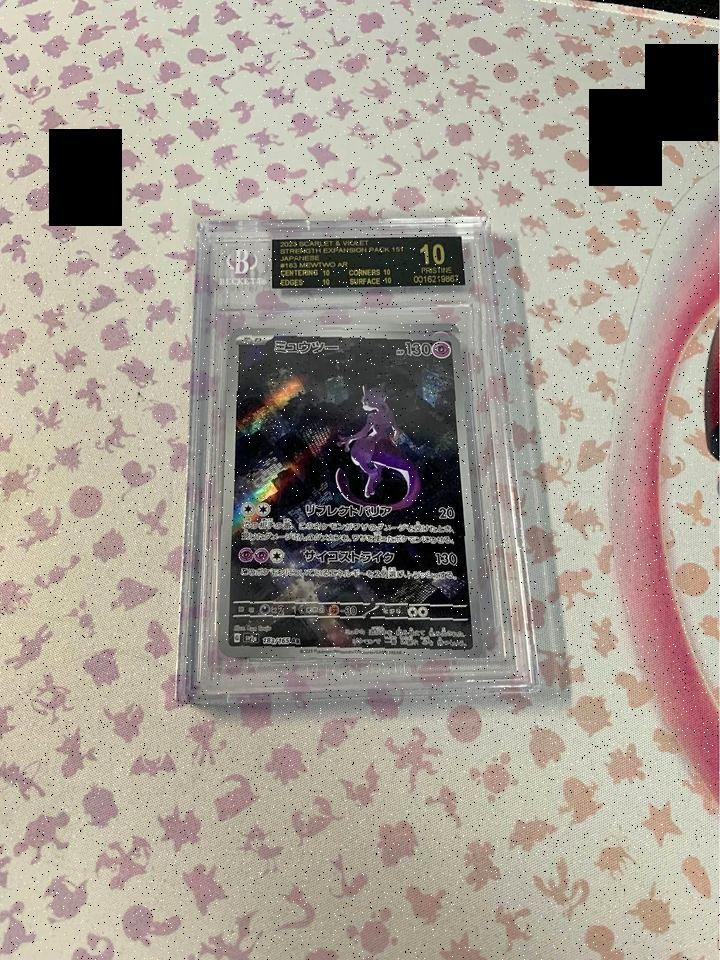card: (218, 327, 486, 658)
